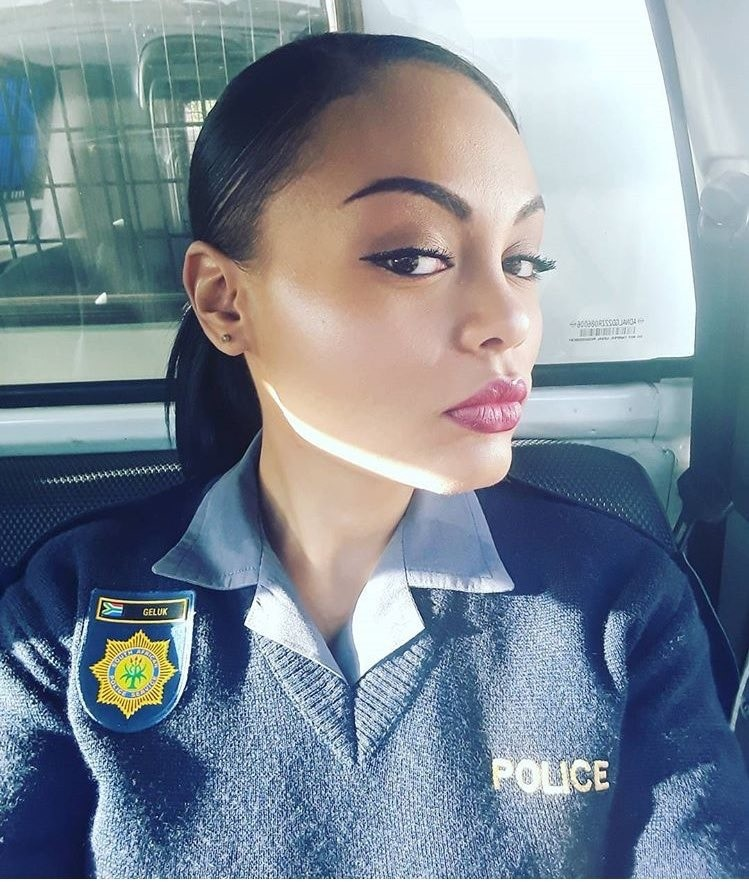face_no_mask: (185, 30, 546, 493)
